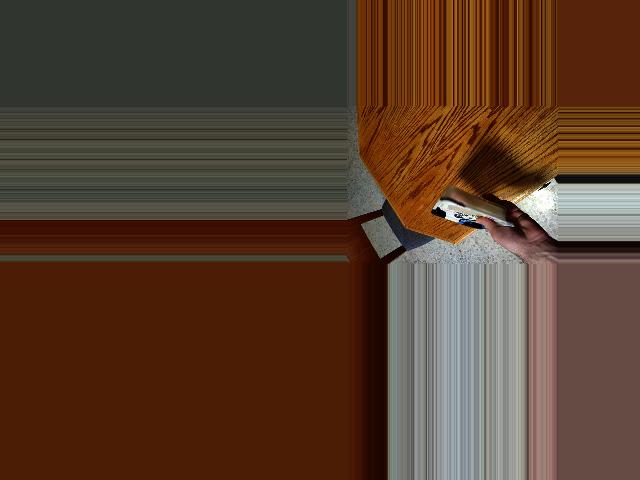cheese: (434, 182, 506, 243)
